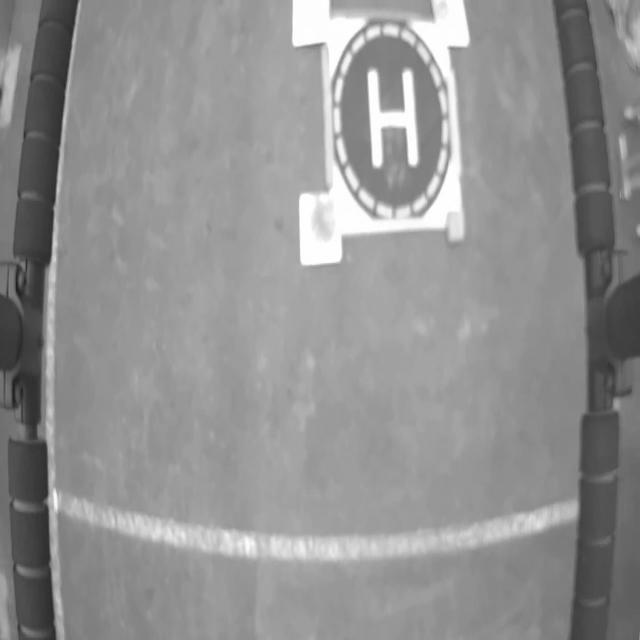Helipad: (366, 65, 418, 172)
